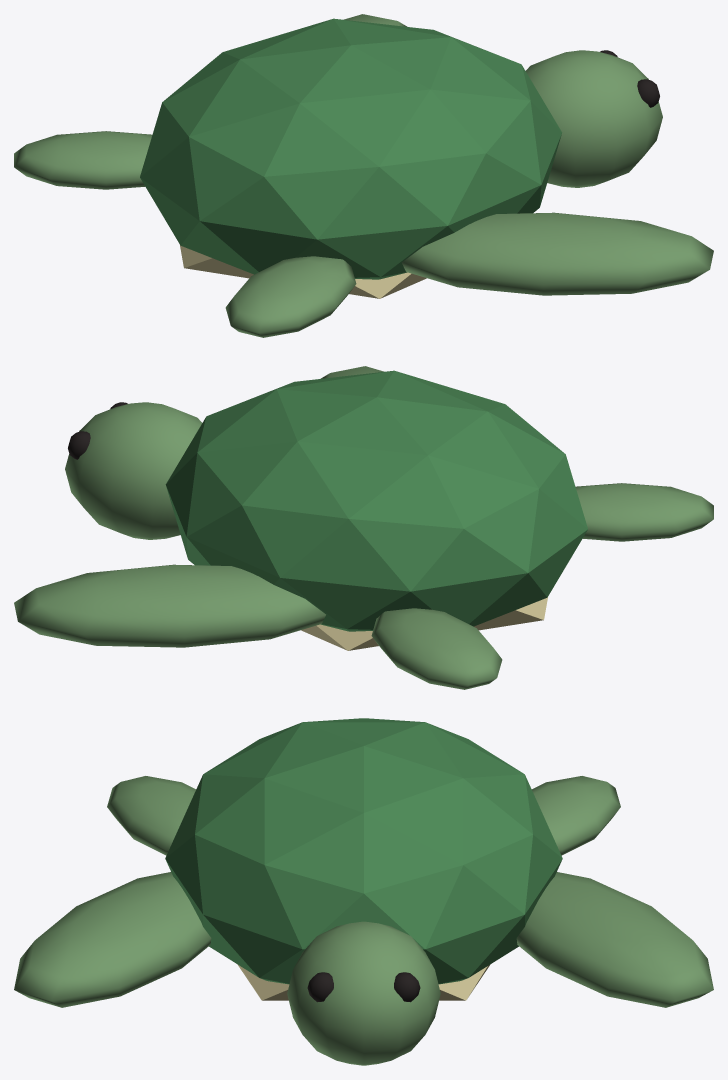
File: honu.glb
The picture shows the model from 3 angles, top to bottom: view 1: azimuth 30°, elevation 25°; view 2: azimuth 150°, elevation 25°; view 3: azimuth 270°, elevation 25°; orthographic projection. The views are drawn at different scales.
Parts seen in each view (by area): view 1: honu; view 2: honu; view 3: honu.
Boxes of the visible parts, x1,y1,x2,y2 form: honu: (14,14,713,337); honu: (14,366,713,689); honu: (14,718,713,1065).
Size of the model in its own units: 1.4 by 0.55 by 1.55.
